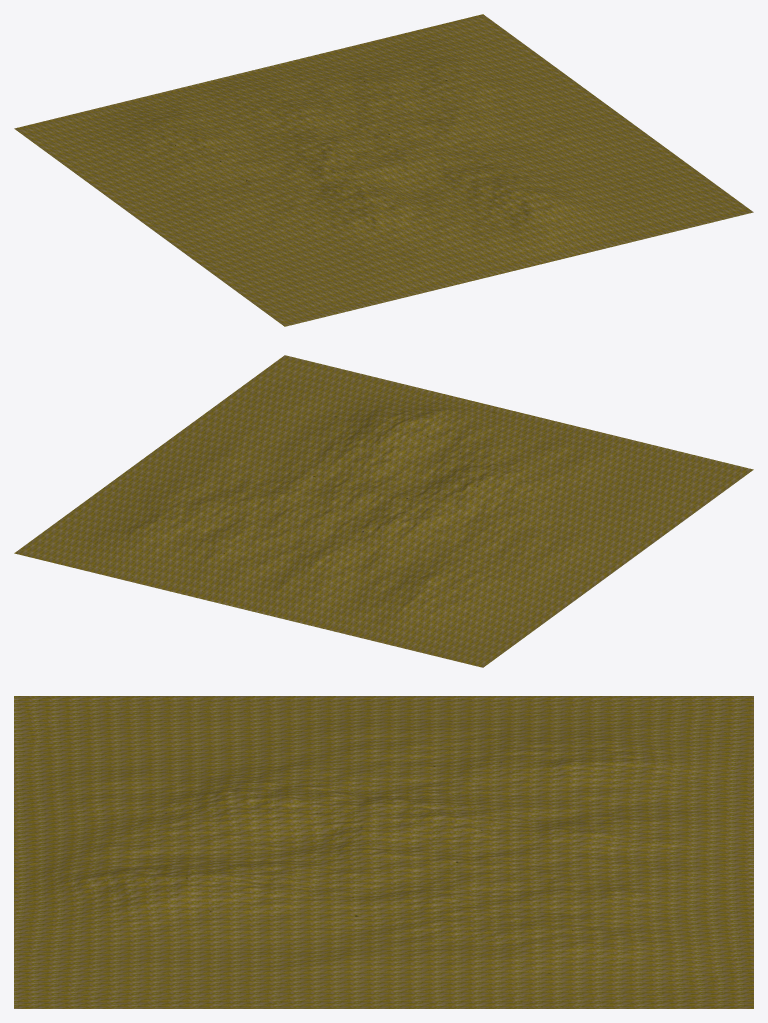
File: terrain.glb
3 renders of one model, top to bottom at view 1: azimuth 30°, elevation 25°; view 2: azimuth 150°, elevation 25°; view 3: azimuth 270°, elevation 25°, orthographic. The views are drawn at different scales.
Visible parts, largest first — view 1: Landscape.003; view 2: Landscape.003; view 3: Landscape.003.
Part boxes in pixels (bbox=[...]): Landscape.003: bbox=[14, 14, 753, 326]; Landscape.003: bbox=[14, 355, 753, 667]; Landscape.003: bbox=[14, 696, 753, 1008].
Size of the model in its own units: 2000 by 56.71 by 2000.
Materials: 1 (1 with a texture image).
